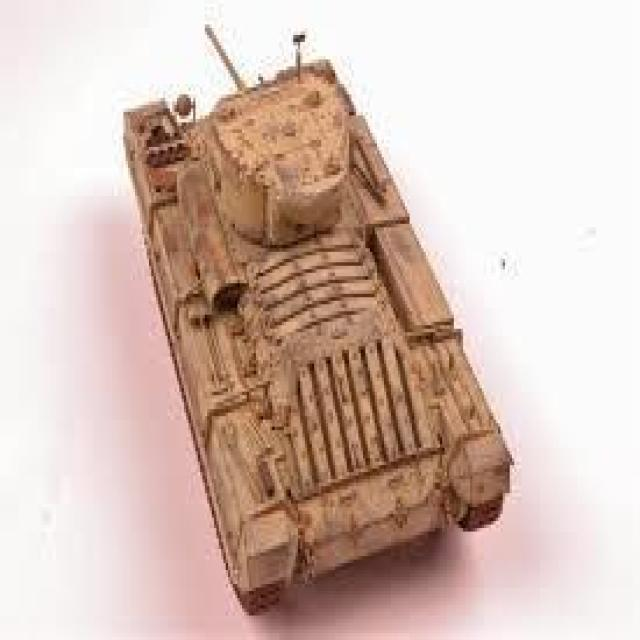MIL_MBT: (125, 14, 518, 612)
